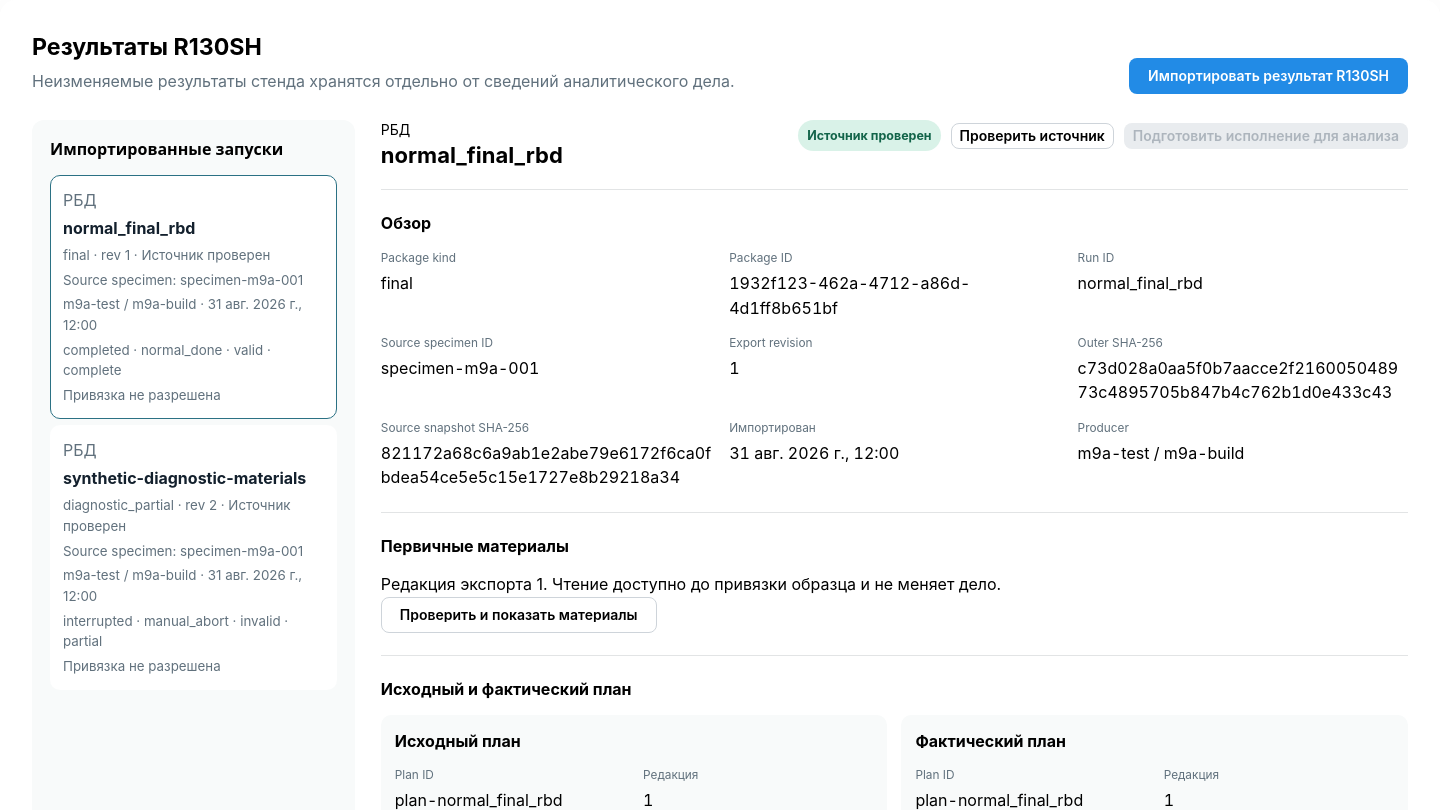
materials in the existing results lifecycle › drains an old material request before reading a newly selected import
The image size is (1440, 810).
Click the button "Проверить и показать материалы".
click(519, 615)  # box [381,597,657,633]
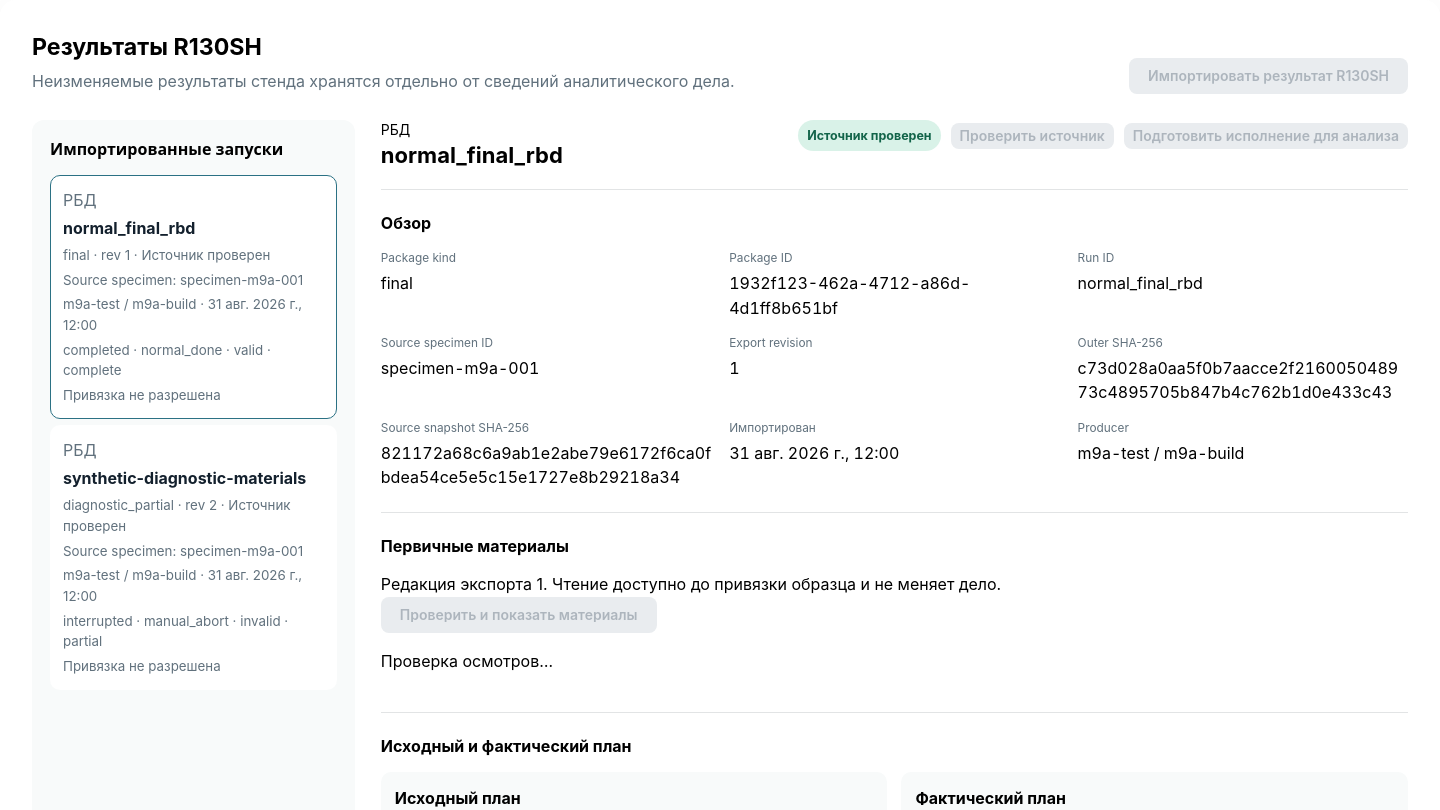
Click the 5th button.
click(193, 557)  # box [50,425,337,690]
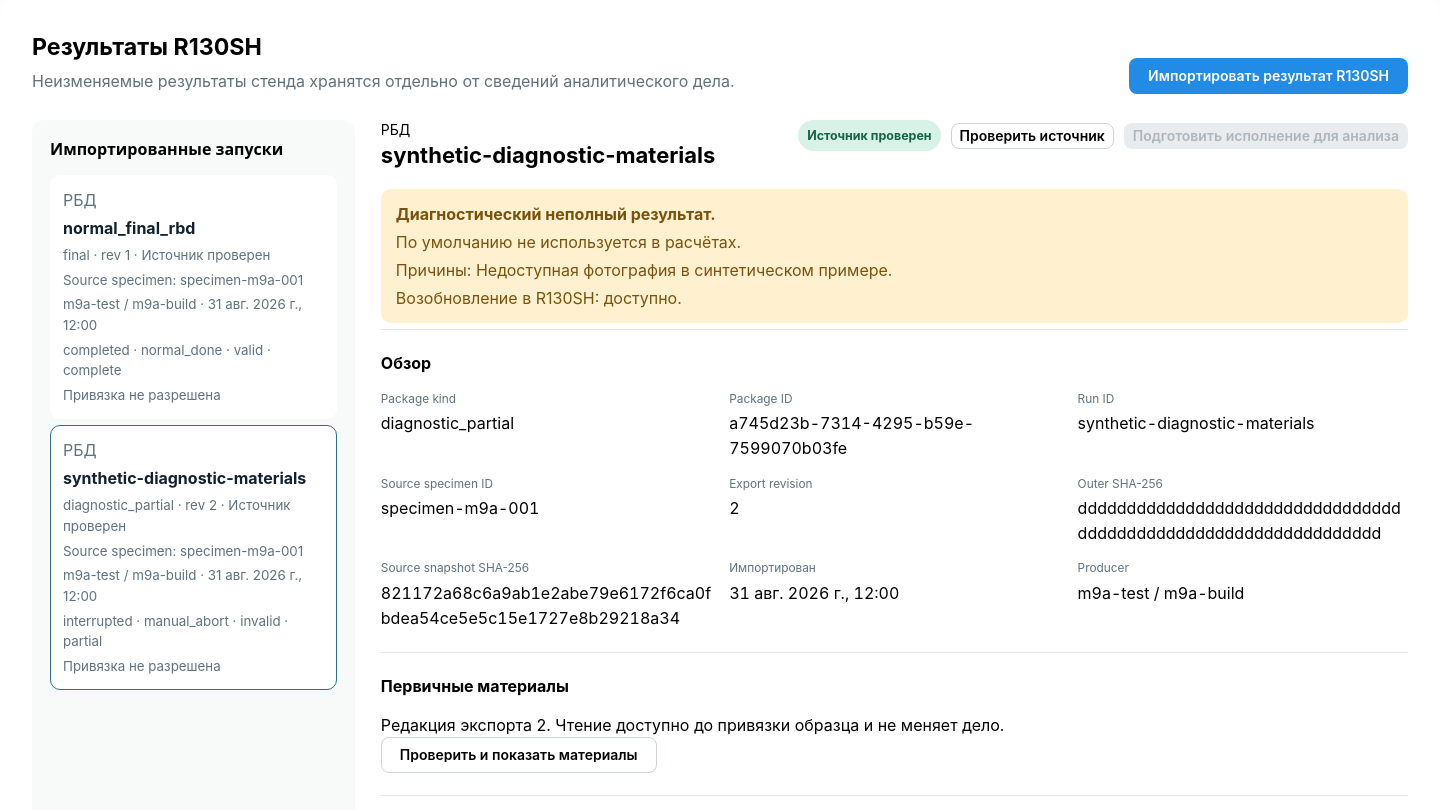
Expected: the header with class "r130sh-detail-header" shows "synthetic-diagnostic-materials", [381,142,715,168]
